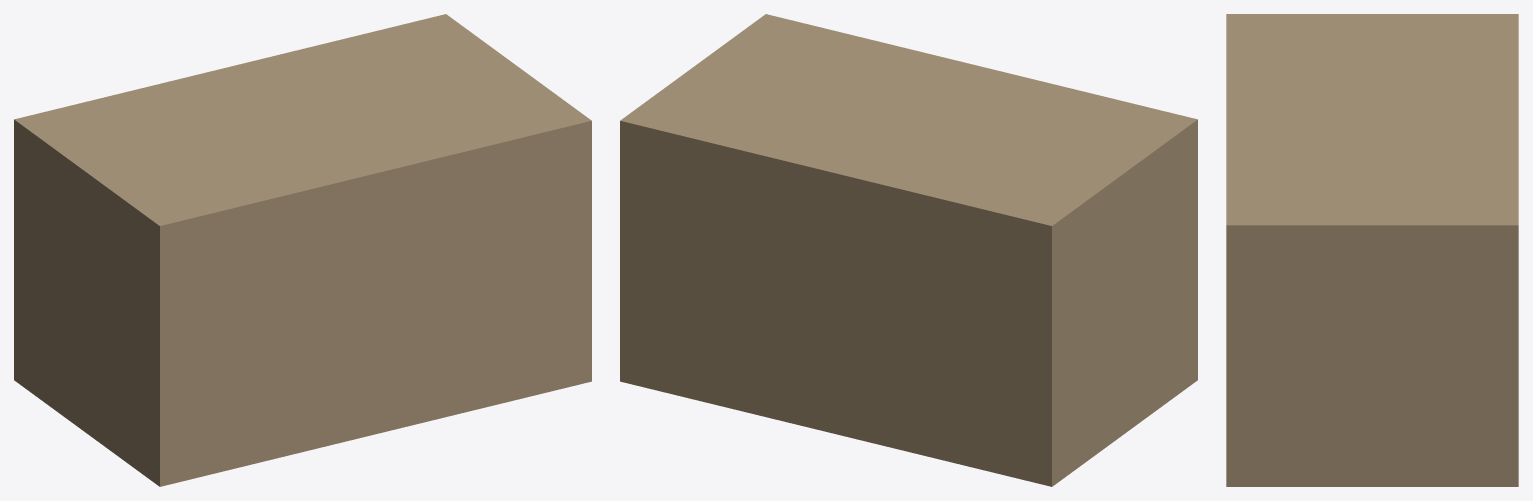
File: ikea-nammaro-69506771-g2-proxy.glb
The picture shows the model from 3 angles, left to right: view 1: azimuth 30°, elevation 25°; view 2: azimuth 150°, elevation 25°; view 3: azimuth 270°, elevation 25°; orthographic projection.
Visible parts, largest first — view 1: proxy_body; view 2: proxy_body; view 3: proxy_body.
Boxes of the visible parts, x1=… form: proxy_body: x1=14, y1=14, x2=591, y2=486; proxy_body: x1=620, y1=14, x2=1197, y2=486; proxy_body: x1=1226, y1=14, x2=1518, y2=486.
Size of the model in its own units: 1.3 by 0.75 by 0.76.
